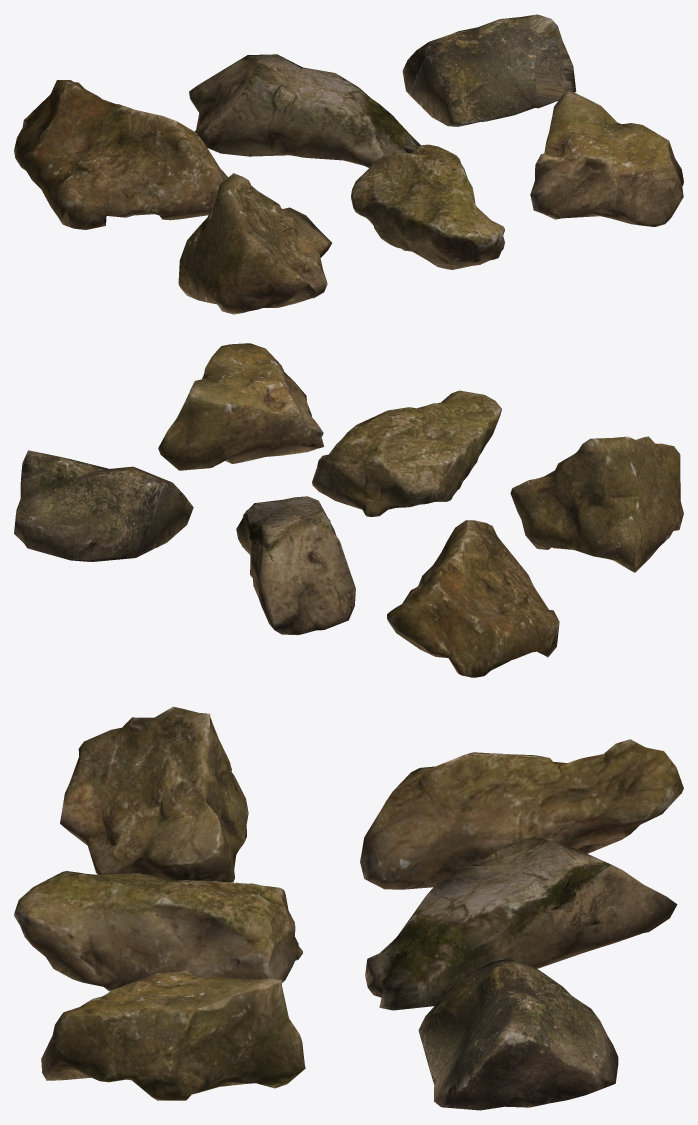
The model's file is rock_moss_set_01.glb.
3 renders of one model, top to bottom at view 1: azimuth 30°, elevation 25°; view 2: azimuth 150°, elevation 25°; view 3: azimuth 270°, elevation 25°, orthographic. The views are drawn at different scales.
Parts seen in each view (by area): view 1: rock_moss_set_01_rock01, rock_moss_set_01_rock02, rock_moss_set_01_rock06, rock_moss_set_01_rock04, rock_moss_set_01_rock03, rock_moss_set_01_rock05; view 2: rock_moss_set_01_rock04, rock_moss_set_01_rock01, rock_moss_set_01_rock05, rock_moss_set_01_rock03, rock_moss_set_01_rock06, rock_moss_set_01_rock02; view 3: rock_moss_set_01_rock01, rock_moss_set_01_rock02, rock_moss_set_01_rock05, rock_moss_set_01_rock06, rock_moss_set_01_rock04, rock_moss_set_01_rock03.
Part boxes in pixels (x1=…): rock_moss_set_01_rock01: x1=14, y1=80, x2=227, y2=229; rock_moss_set_01_rock02: x1=189, y1=54, x2=420, y2=167; rock_moss_set_01_rock06: x1=530, y1=90, x2=683, y2=226; rock_moss_set_01_rock04: x1=178, y1=173, x2=331, y2=314; rock_moss_set_01_rock03: x1=402, y1=14, x2=576, y2=126; rock_moss_set_01_rock05: x1=351, y1=144, x2=504, y2=269; rock_moss_set_01_rock04: x1=510, y1=436, x2=683, y2=572; rock_moss_set_01_rock01: x1=387, y1=520, x2=559, y2=677; rock_moss_set_01_rock05: x1=312, y1=390, x2=501, y2=516; rock_moss_set_01_rock03: x1=14, y1=450, x2=193, y2=561; rock_moss_set_01_rock06: x1=158, y1=343, x2=324, y2=470; rock_moss_set_01_rock02: x1=236, y1=496, x2=355, y2=635; rock_moss_set_01_rock01: x1=360, y1=739, x2=683, y2=889; rock_moss_set_01_rock02: x1=365, y1=836, x2=677, y2=1010; rock_moss_set_01_rock05: x1=14, y1=871, x2=302, y2=991; rock_moss_set_01_rock06: x1=41, y1=970, x2=305, y2=1100; rock_moss_set_01_rock04: x1=60, y1=706, x2=248, y2=882; rock_moss_set_01_rock03: x1=418, y1=958, x2=618, y2=1110.
Bounding box in the file's own units: 8 × 1.76 × 6.94.
Materials: 1 (1 with a texture image).
